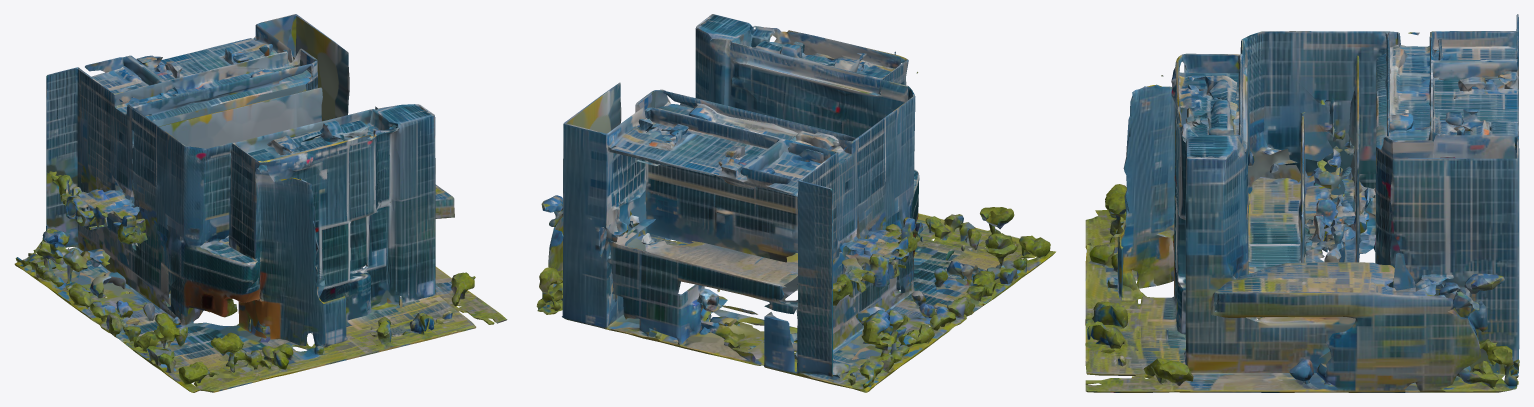
The model's file is Haiju_Hunyuan3D2mv_textured.glb.
The picture shows the model from 3 angles, left to right: view 1: azimuth 30°, elevation 25°; view 2: azimuth 150°, elevation 25°; view 3: azimuth 270°, elevation 25°; orthographic projection. The views are drawn at different scales.
Parts seen in each view (by area): view 1: Haiju_Hunyuan3D2mv_textured; view 2: Haiju_Hunyuan3D2mv_textured; view 3: Haiju_Hunyuan3D2mv_textured.
Part boxes in pixels (x1,y1,x2,y2): Haiju_Hunyuan3D2mv_textured: (14, 14, 507, 392); Haiju_Hunyuan3D2mv_textured: (536, 14, 1055, 392); Haiju_Hunyuan3D2mv_textured: (1085, 14, 1519, 392).
Bounding box in the file's own units: 1.98 × 1.13 × 1.99.
1 material, 1 textured.
